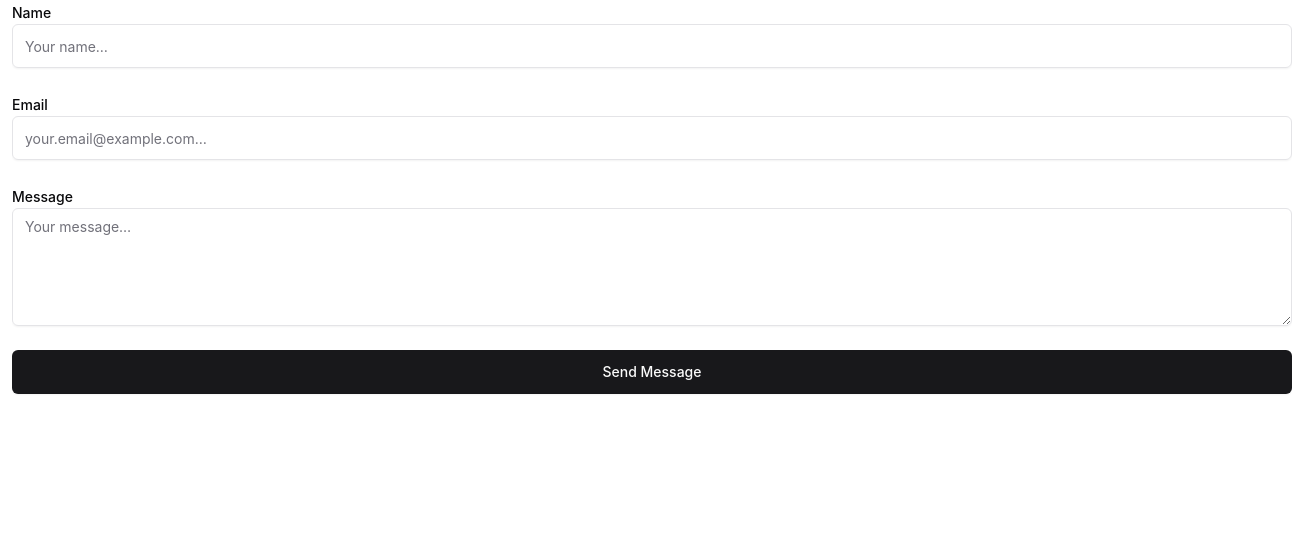
Test case: ContactForm › shows actionable error when API base URL is missing
Step 1. Type "John Doe" into the field labelled "Name" → point(652, 46), box left=12, top=24, right=1292, bottom=68
Step 2. Press Tab
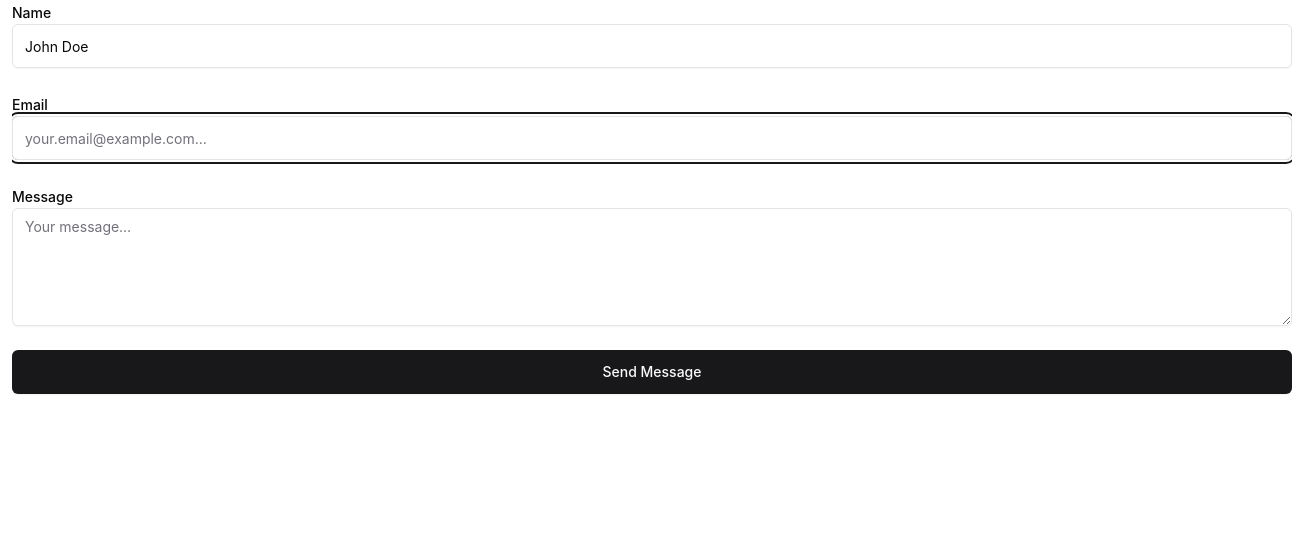
Step 3. Type "john@example.com" into the field labelled "Email" → point(652, 138), box left=12, top=116, right=1292, bottom=160
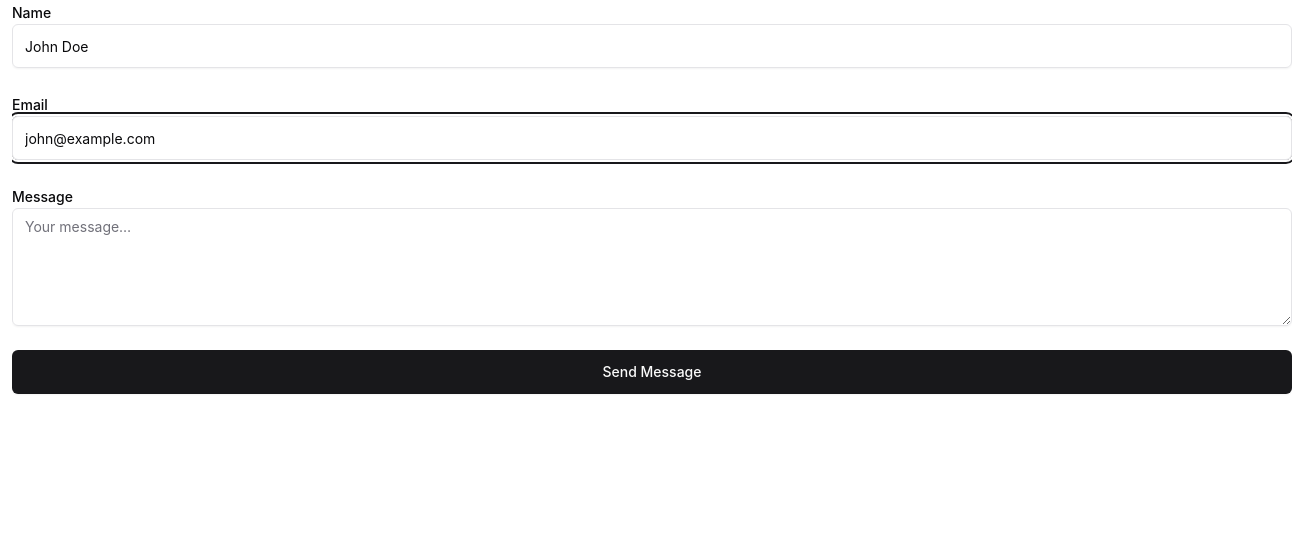
Step 4. Press Tab
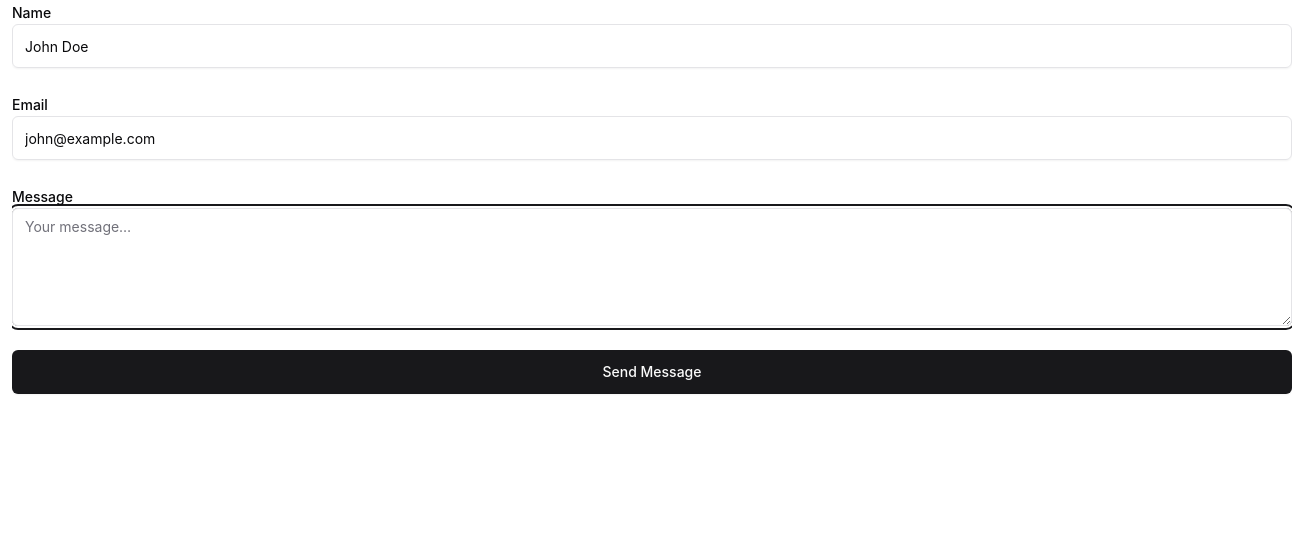
Step 5. Type "This is a test message that is long enough for validation." into the text box labelled "Message" → point(652, 267), box left=12, top=208, right=1292, bottom=326
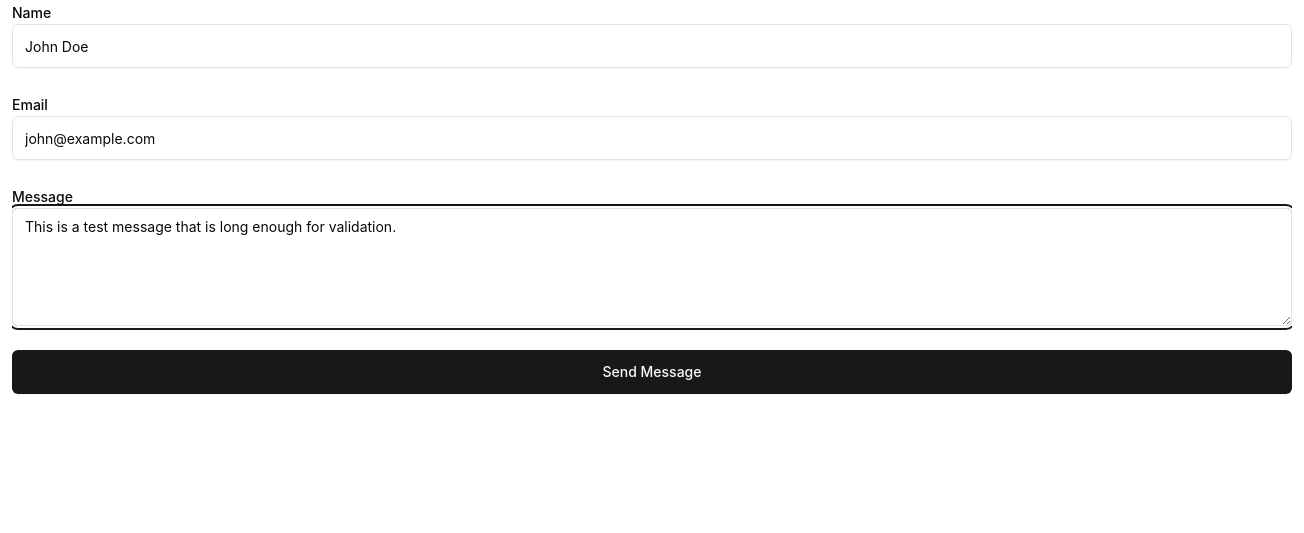
Step 6. Press Tab
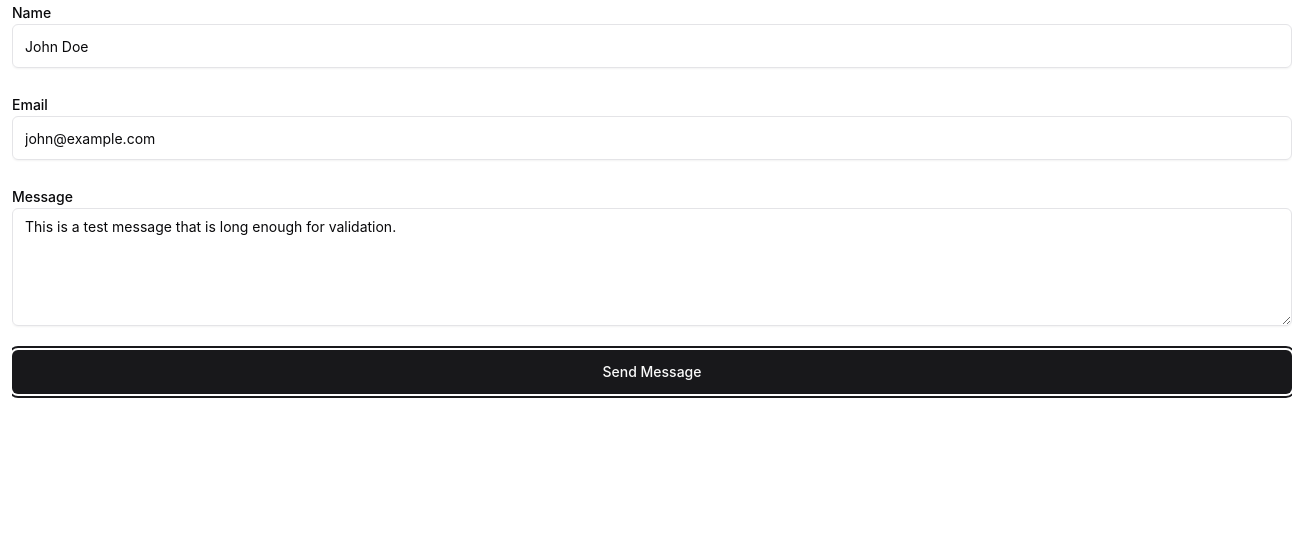
Step 7. Click the button "Send Message" → point(652, 372), box left=12, top=350, right=1292, bottom=394
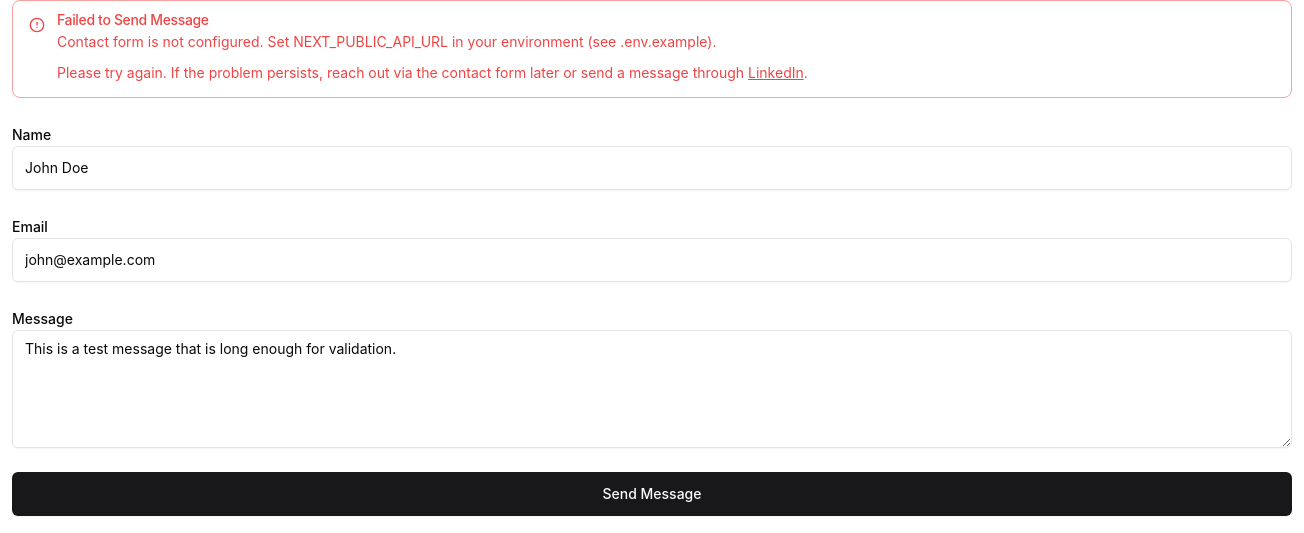
Expected: the text "Set NEXT_PUBLIC_API_URL" is shown, left=57, top=33, right=716, bottom=50
